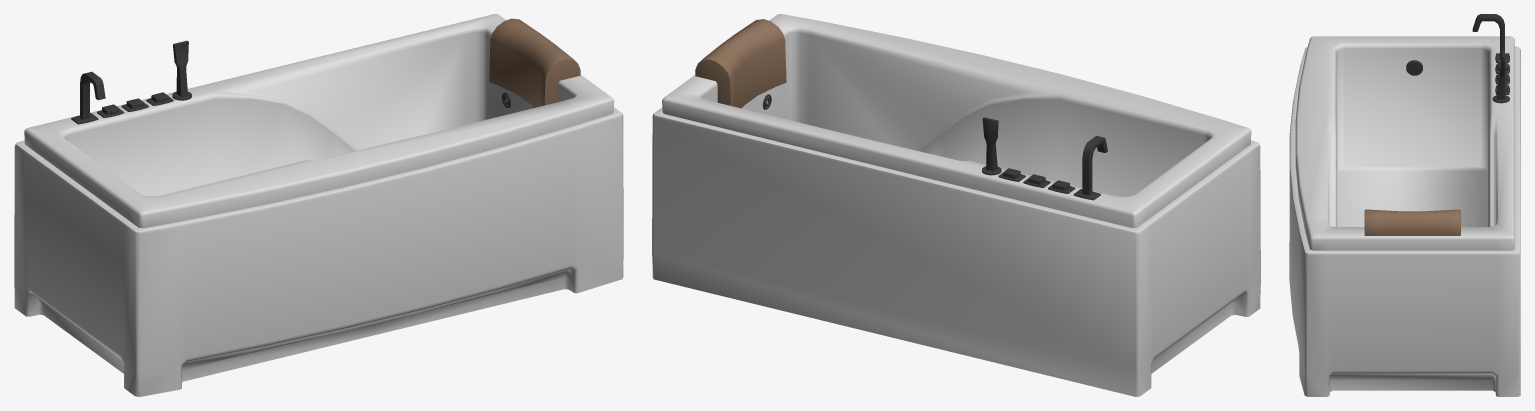
File: OLS6121.FBX
3 views of the same model, side by side, from view 1: azimuth 30°, elevation 25°; view 2: azimuth 150°, elevation 25°; view 3: azimuth 270°, elevation 25° (orthographic). The views are drawn at different scales.
Visible parts, largest first — view 1: OLS6121; view 2: OLS6121; view 3: OLS6121.
Part boxes in pixels (box(x1,y1,x2,y2)): OLS6121: box(14, 14, 623, 396); OLS6121: box(652, 14, 1260, 396); OLS6121: box(1289, 14, 1520, 396).
Bounding box in the file's own units: 4318 × 1970 × 2032.
